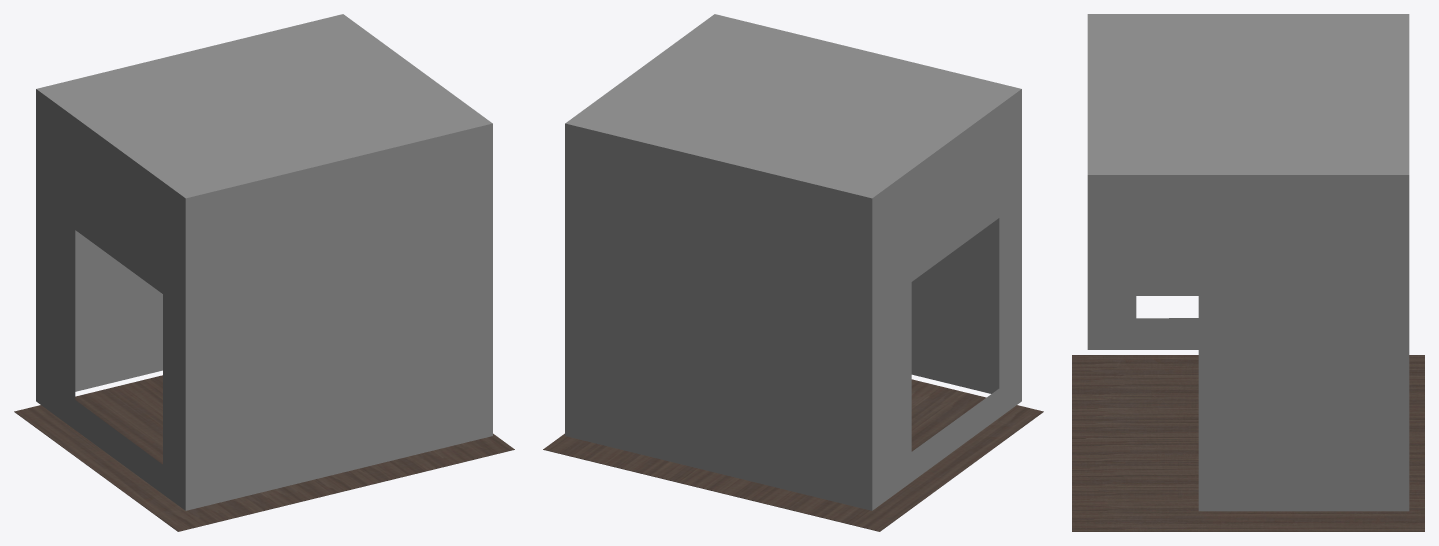
Rendered from building.FBX.
3 renders of one model, left to right at view 1: azimuth 30°, elevation 25°; view 2: azimuth 150°, elevation 25°; view 3: azimuth 270°, elevation 25°, orthographic. The views are drawn at different scales.
Parts seen in each view (by area): view 1: 墙, 地板; view 2: 墙, 地板, 吊顶; view 3: 墙, 地板, 吊顶.
Boxes of the visible parts, x1,y1,x2,y2 form: 墙: (36,14,492,510); 地板: (14,375,514,531); 墙: (565,14,1021,510); 地板: (543,379,1043,531); 吊顶: (565,124,849,224); 墙: (1087,14,1409,511); 地板: (1072,355,1424,531); 吊顶: (1087,176,1409,209).
Bounding box in the file's own units: 351 × 323 × 296.
2 materials, 1 textured.
